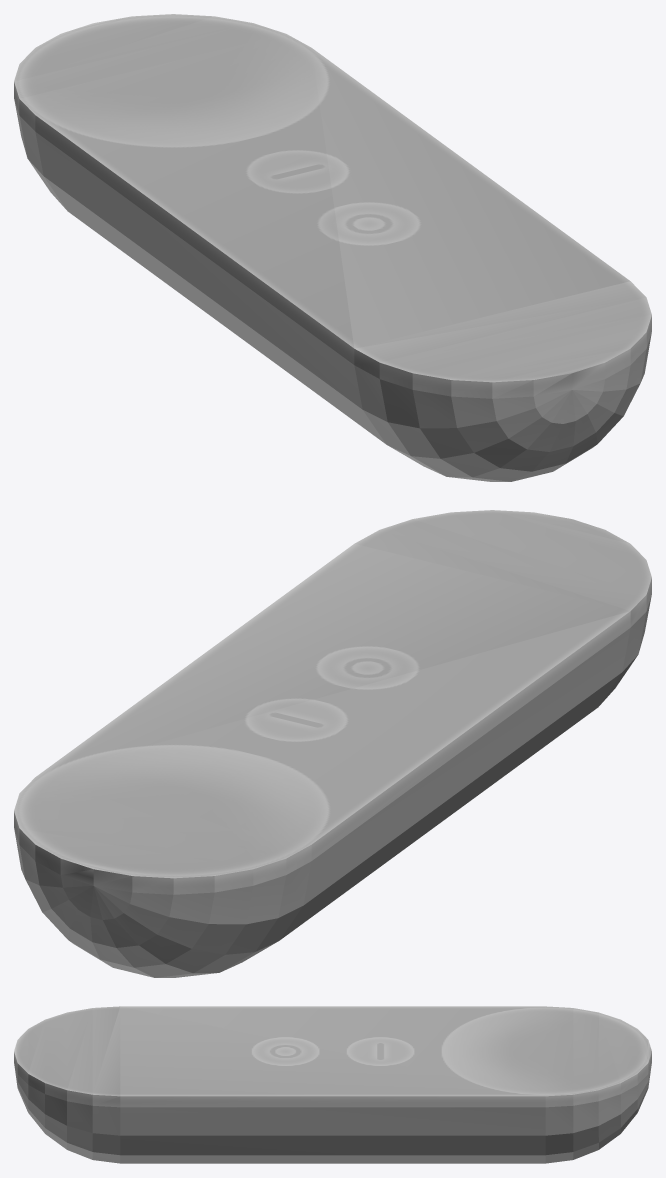
The model's file is dd-controller.gltf.
3 renders of one model, top to bottom at view 1: azimuth 30°, elevation 25°; view 2: azimuth 150°, elevation 25°; view 3: azimuth 270°, elevation 25°, orthographic. The views are drawn at different scales.
Parts seen in each view (by area): view 1: dd-controller; view 2: dd-controller; view 3: dd-controller.
Part boxes in pixels (bbox=[...]): dd-controller: bbox=[14, 14, 651, 481]; dd-controller: bbox=[14, 510, 651, 977]; dd-controller: bbox=[14, 1006, 651, 1163].
Bounding box in the file's own units: 0.1 × 0.0521 × 0.2999.
Materials: 1 (1 with a texture image).
